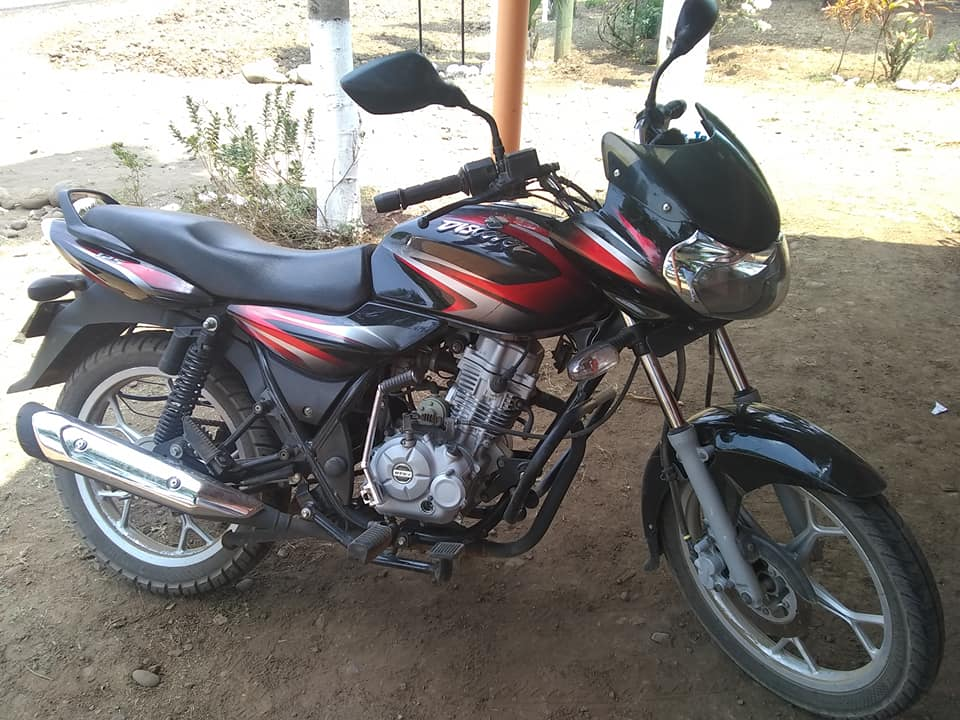moto: (4, 5, 945, 718)
